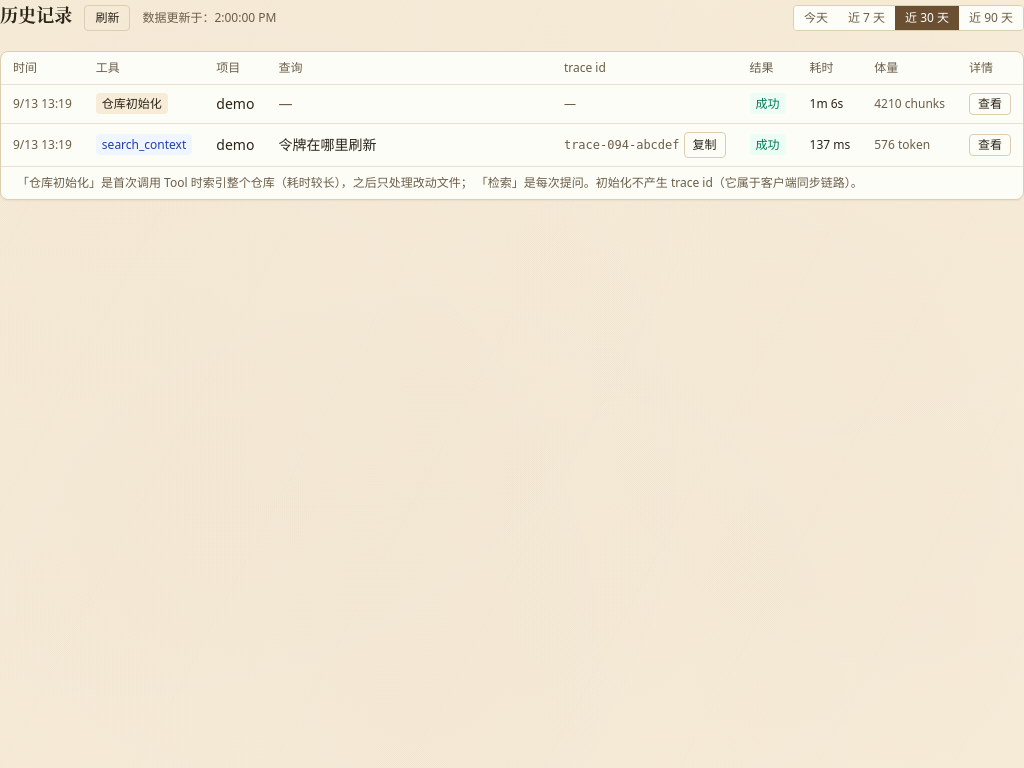
Test case: §需求2 合并表格（TASK-100） › 弹窗可关闭（Esc 与按钮都行）
The image size is (1024, 768).
Click the button "查看" in the row of "search_context" at (990, 145), box [969,134,1011,156]
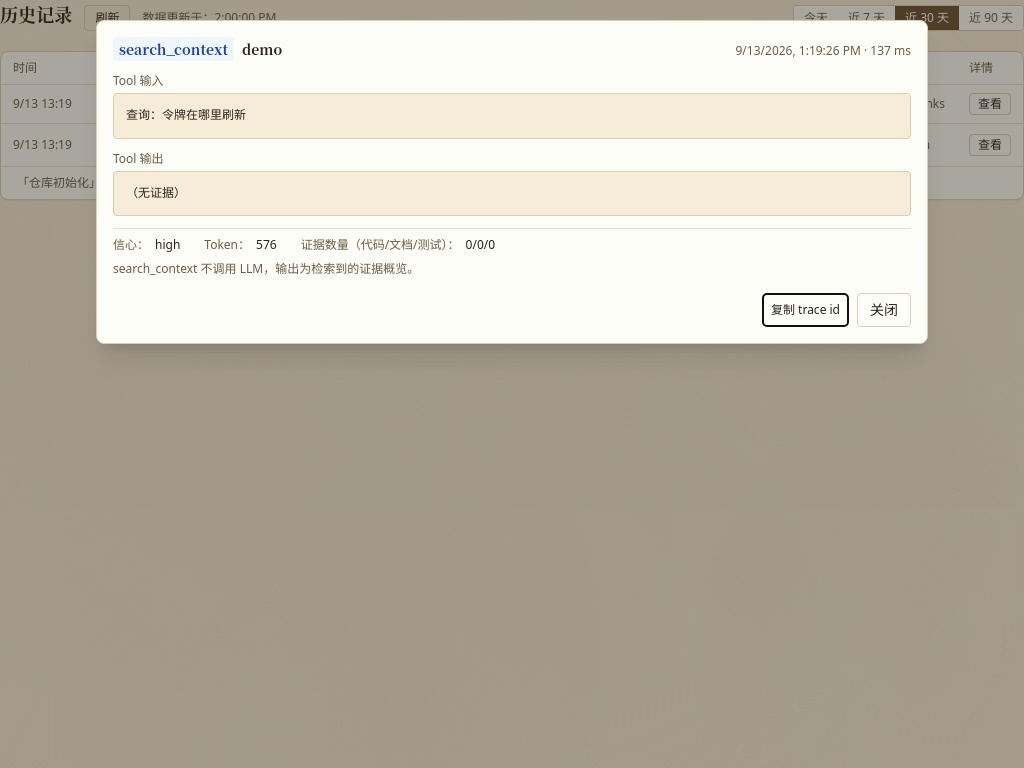
Result: the dialog is shown at [96,20,928,344]
Click the button "关闭" at (884, 310), box [857,293,911,327]
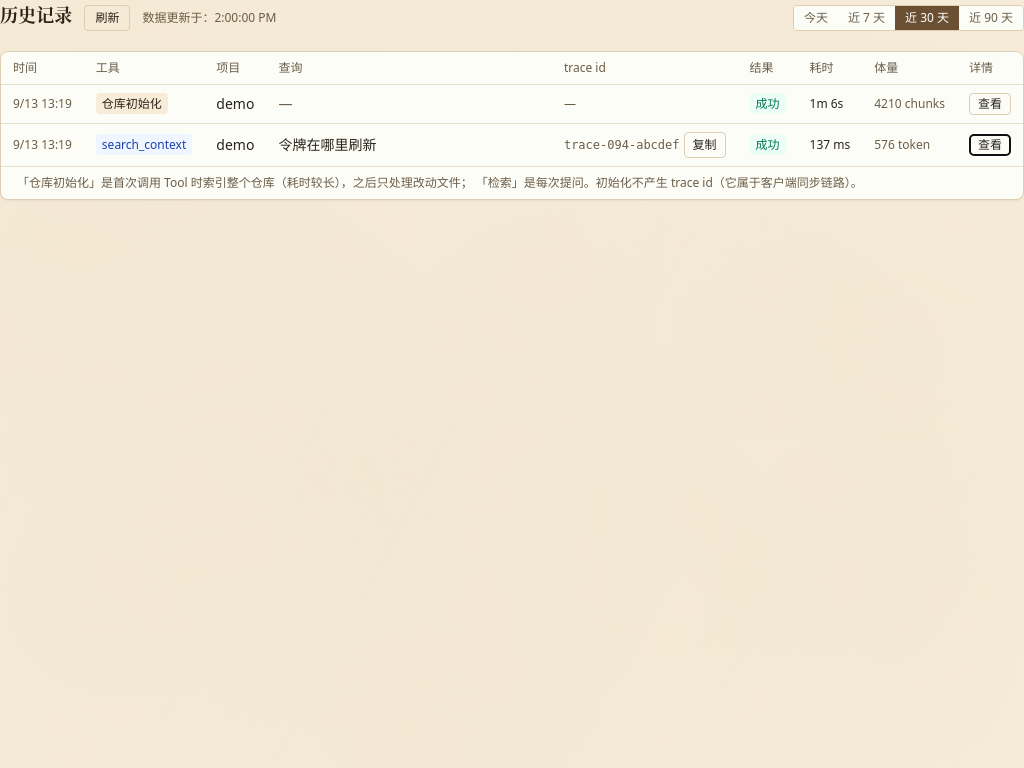
Result: the dialog is gone
